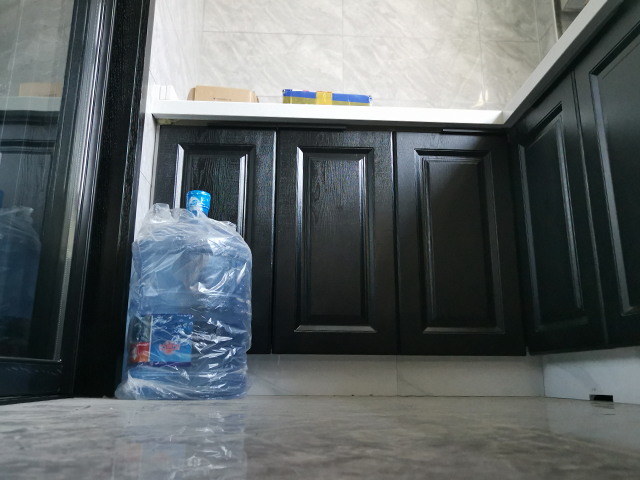cabinet: (159, 119, 535, 385)
